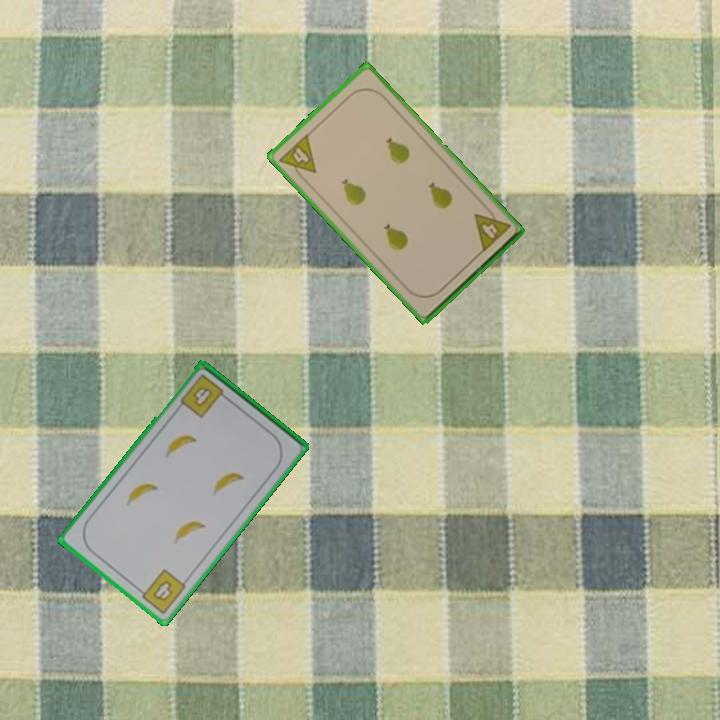4b: (133, 565, 189, 617), (177, 370, 231, 421)
4p: (275, 130, 319, 185), (470, 202, 513, 255)
